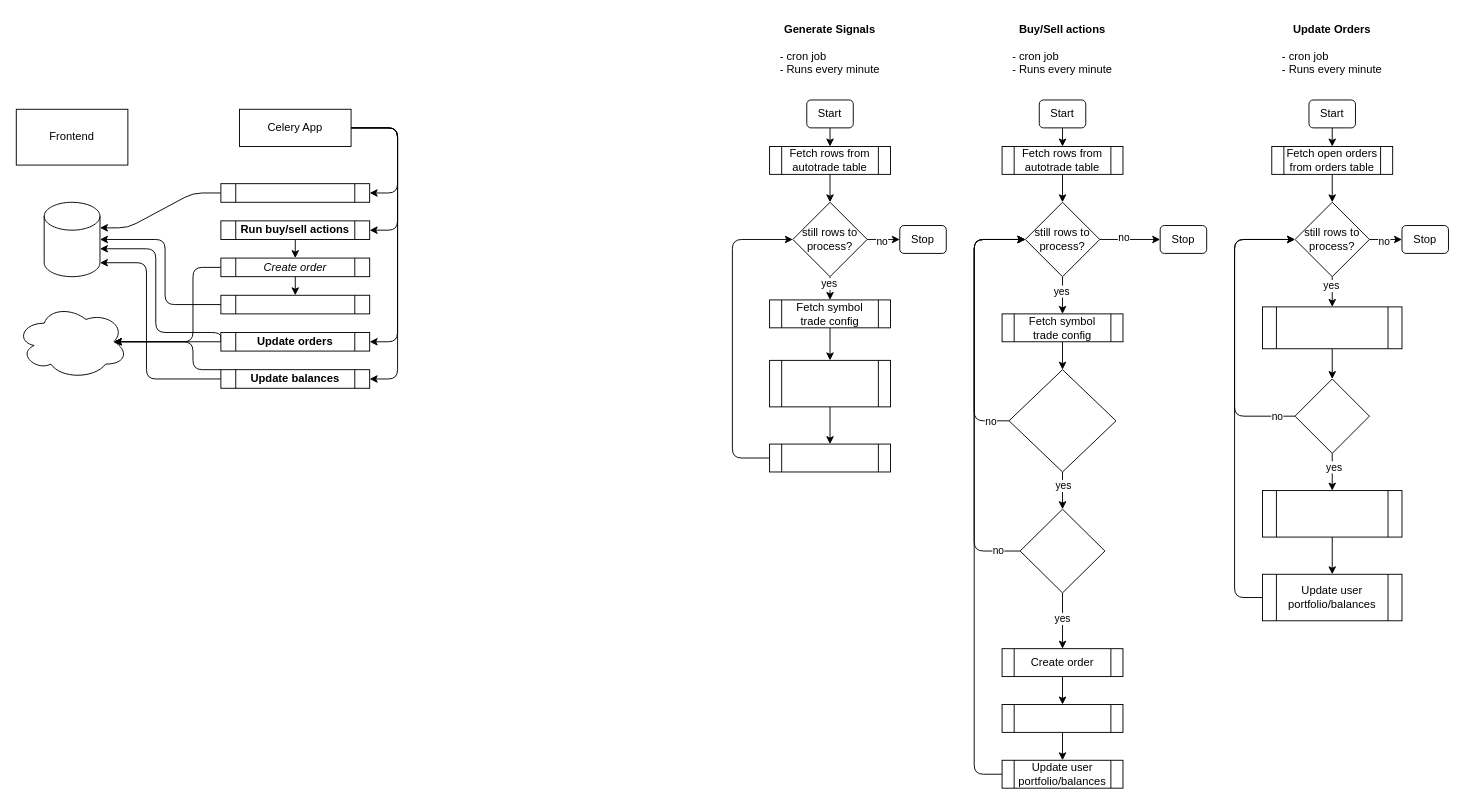
Some shapes in this 1465 by 804 pixel diagram are drawn without their labels. Each missing label, with the centre of its shape:
"DB" belongs at point (71, 239).
"Exchange" belongs at point (71, 341).
"Fetch order details from the exchange it was executed on" belongs at point (1332, 327).
"General signals" belongs at point (295, 192).
"Generate signal based on symbol parameters" belongs at point (829, 383).
"Is last_updated more than 'interval' time ago?" belongs at point (1062, 420).
"Is order closed?" belongs at point (1331, 415).
"Signal is BUY/SELL" belongs at point (1062, 550).
"Store order" belongs at point (295, 304).
"Store order in orders table" belongs at point (1062, 718).
"Store signal in autotrade table" belongs at point (829, 457).
"Update order details in the table" belongs at point (1332, 513).
